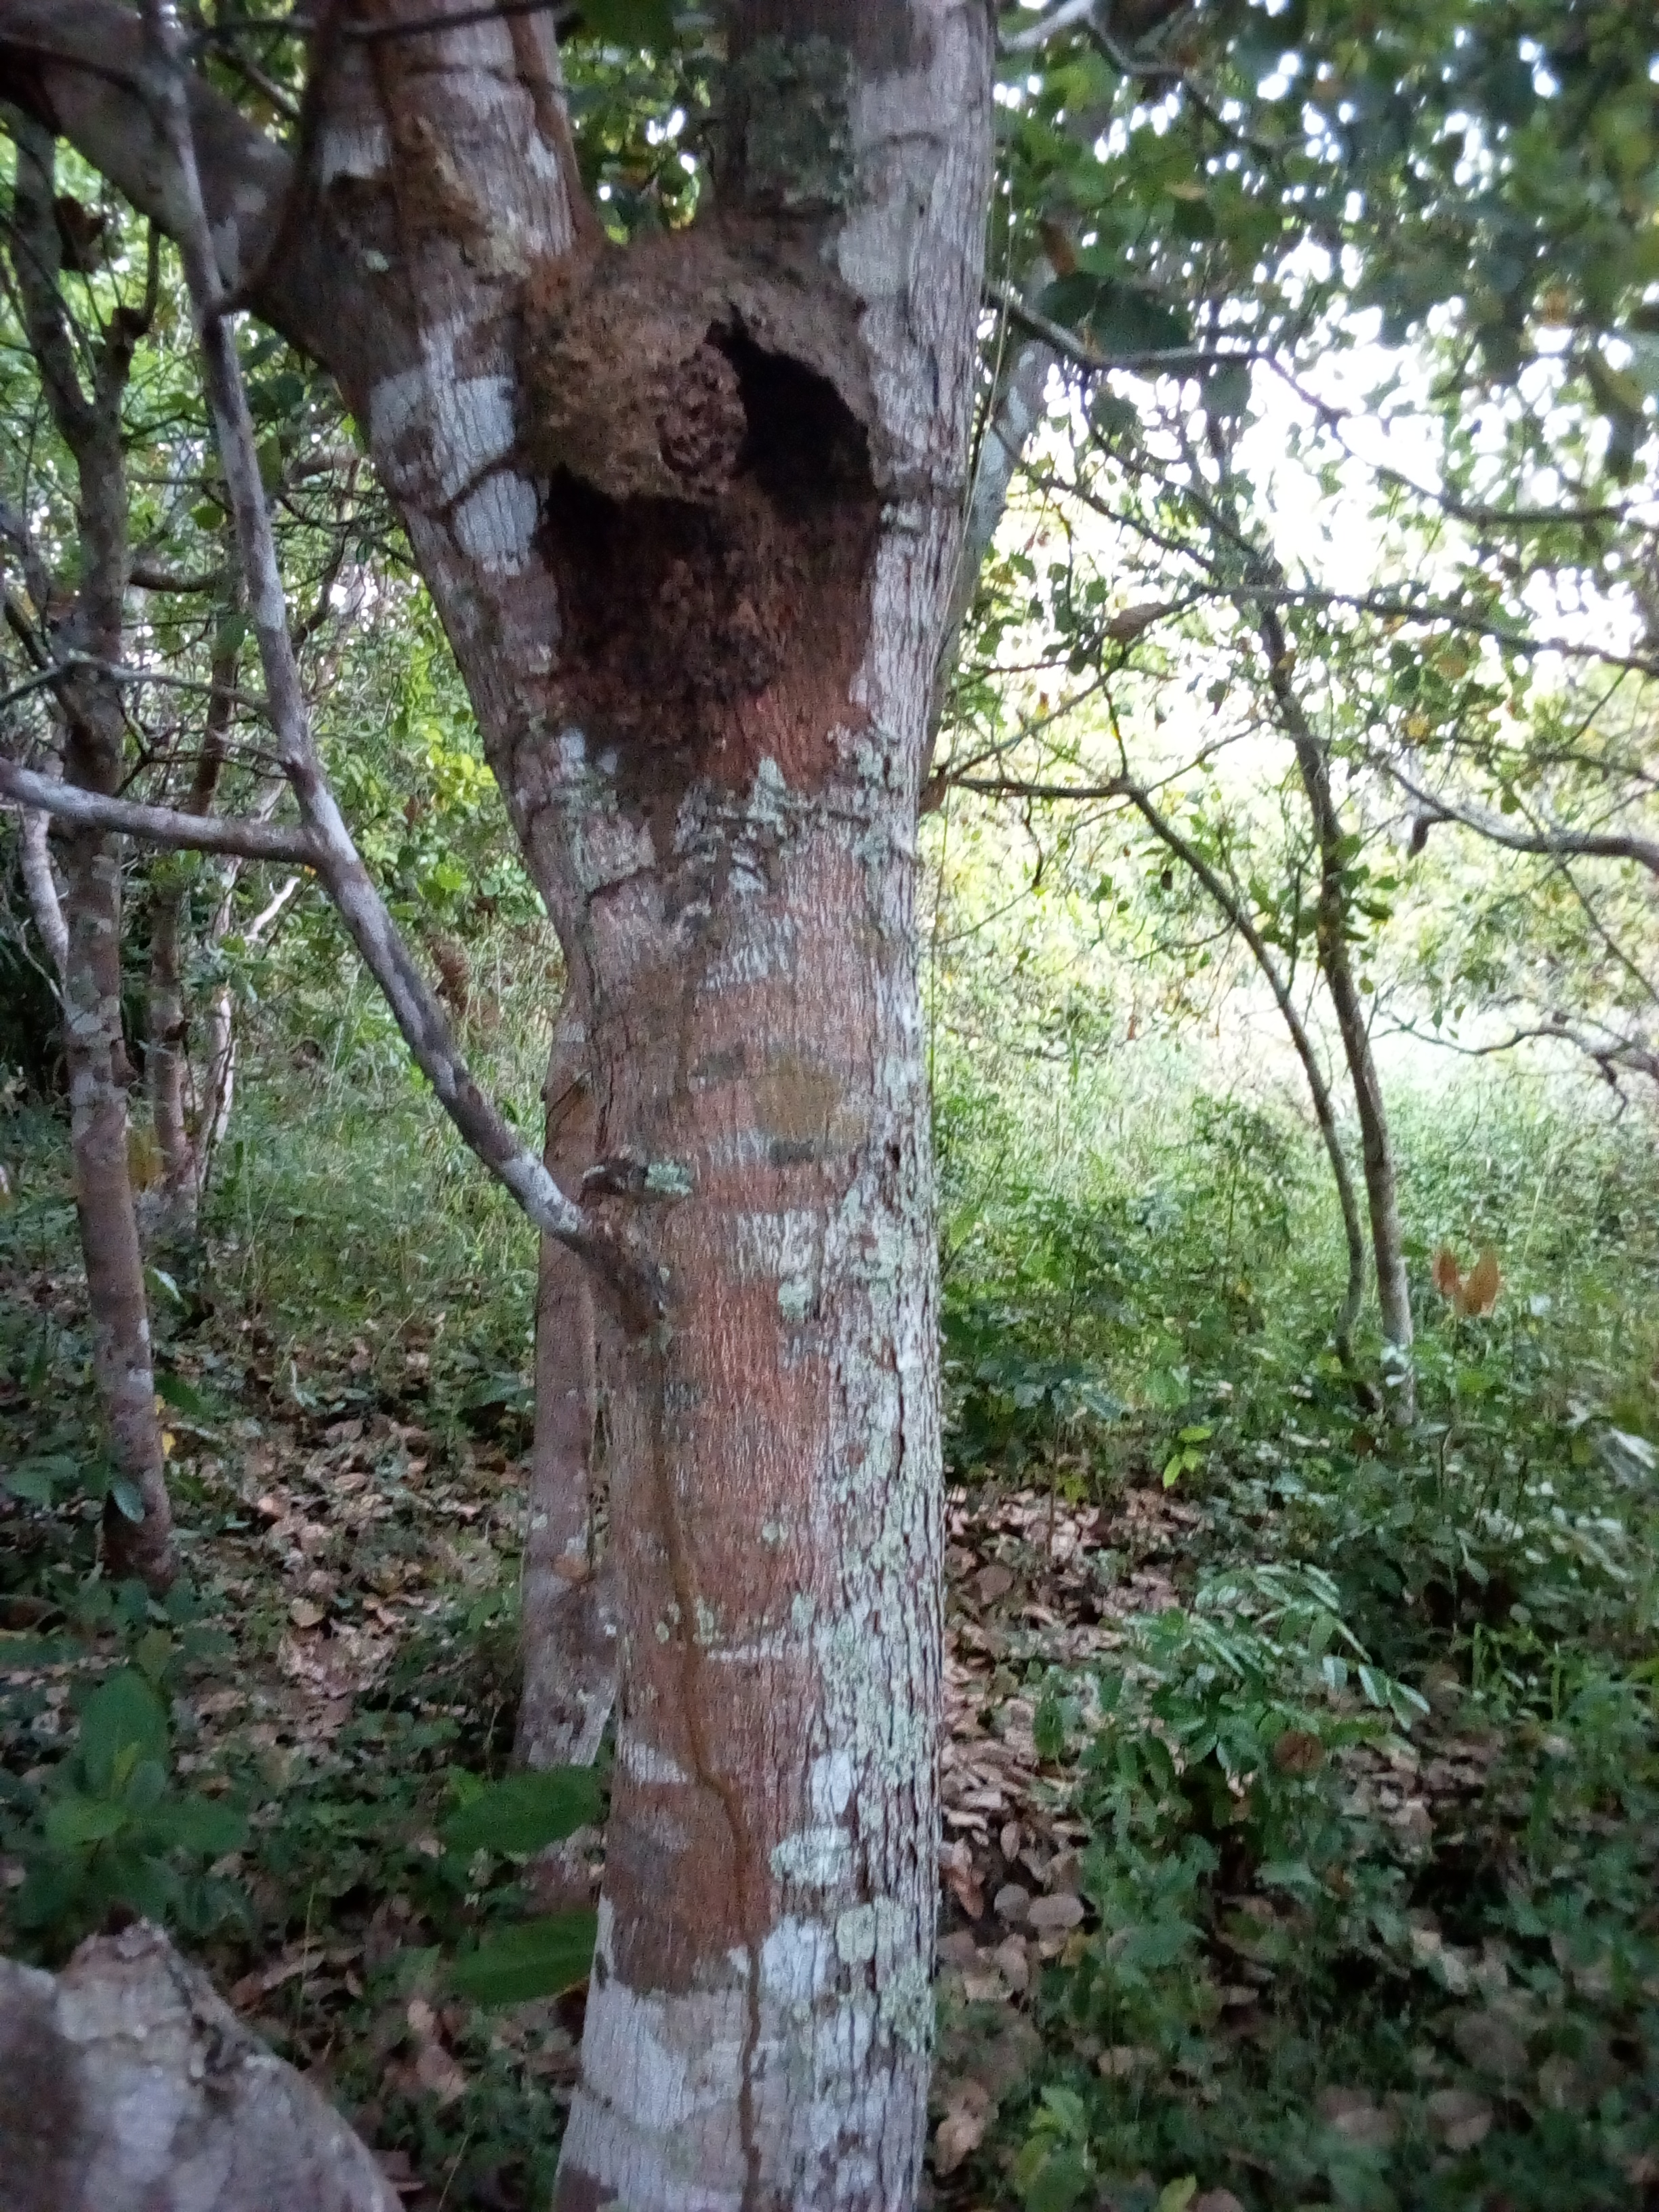Termites: (514, 218, 904, 766), (653, 1378, 805, 2207)
